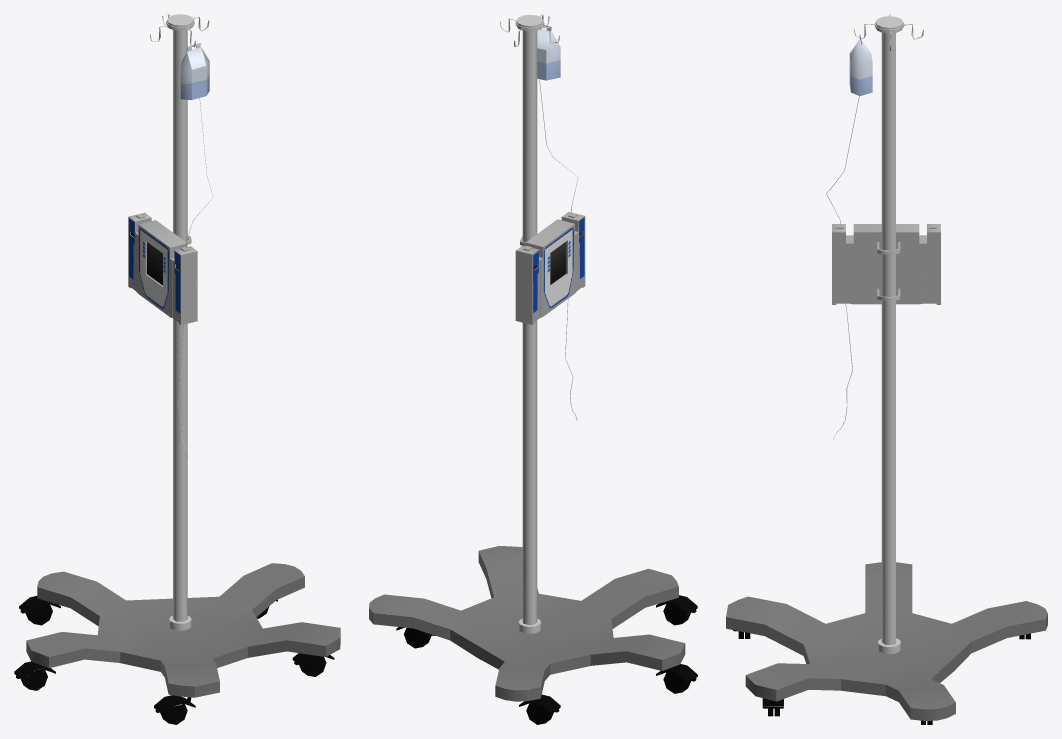
The model's file is iv_stand_bag.glb.
3 views of the same model, side by side, from view 1: azimuth 30°, elevation 25°; view 2: azimuth 150°, elevation 25°; view 3: azimuth 270°, elevation 25° (orthographic). The views are drawn at different scales.
Visible parts, largest first — view 1: Cylinder001__0; view 2: Cylinder001__0; view 3: Cylinder001__0.
Boxes of the visible parts, x1,y1,x2,y2 form: Cylinder001__0: (14, 14, 340, 724); Cylinder001__0: (369, 14, 697, 724); Cylinder001__0: (726, 14, 1047, 724).
Bounding box in the file's own units: 0.8394 × 1.68 × 0.7489.
1 material, 1 textured.
